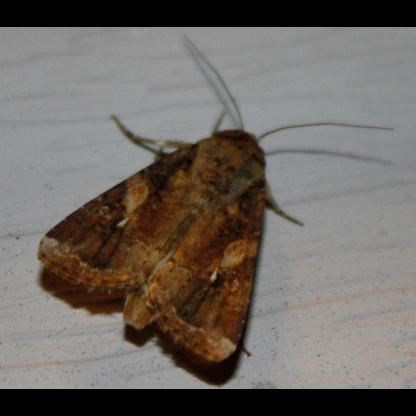Fall Armyworm Moth: (33, 31, 399, 372)
